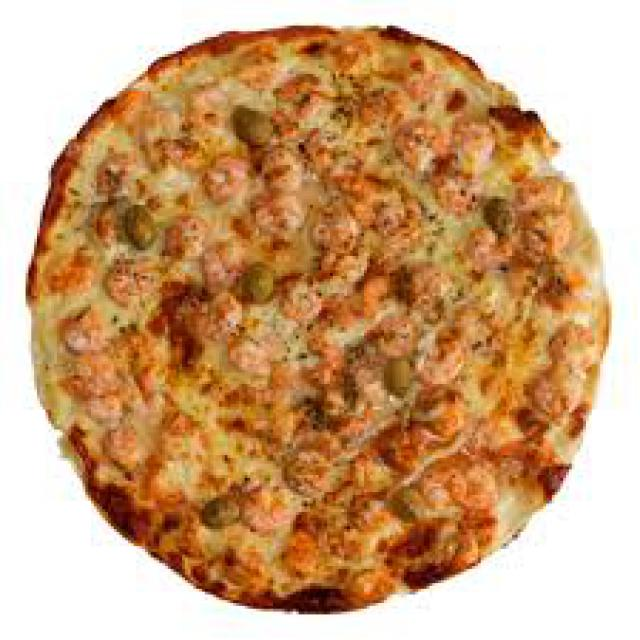camarao: (414, 324, 468, 394), (99, 256, 165, 311), (241, 482, 288, 538), (198, 154, 254, 200), (297, 334, 343, 389)
pizza: (23, 26, 609, 625)
